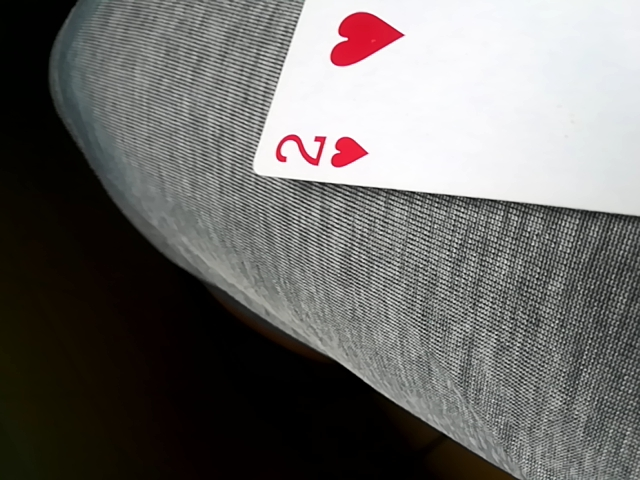hx 2: (248, 1, 638, 233)
